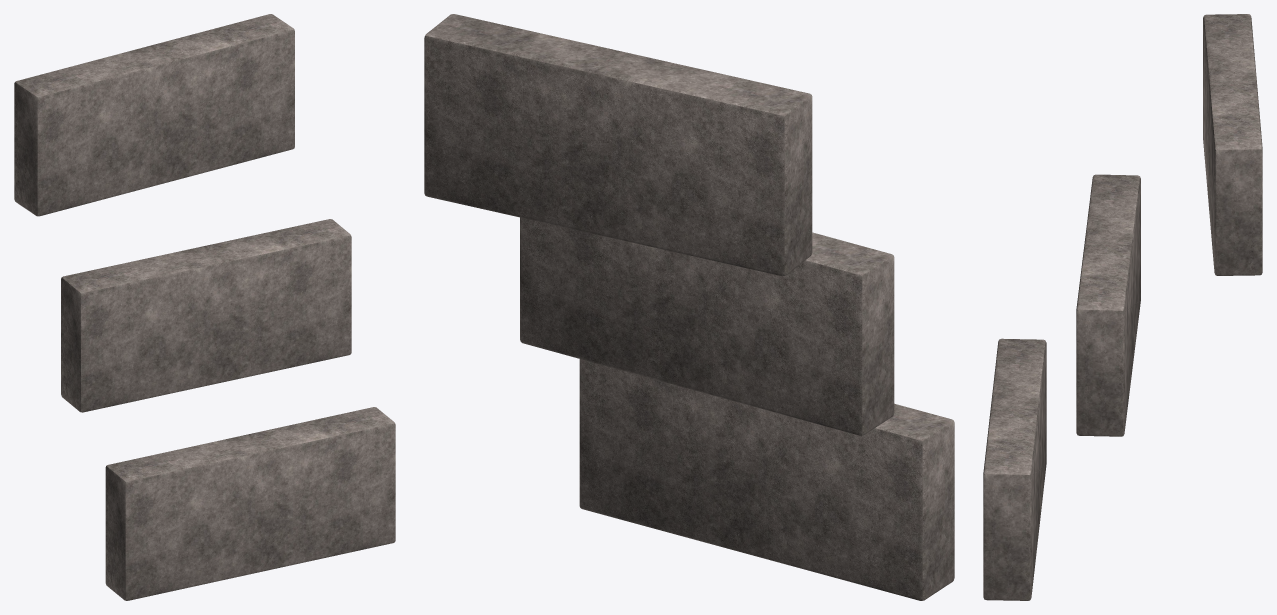
The model's file is PAV-GUI-002_anim.glb.
The picture shows the model from 3 angles, left to right: view 1: azimuth 30°, elevation 25°; view 2: azimuth 150°, elevation 25°; view 3: azimuth 270°, elevation 25°; orthographic projection. The views are drawn at different scales.
Visible parts, largest first — view 1: PAV-GUI-002_anim1, PAV-GUI-002_anim0, PAV-GUI-002_anim2; view 2: PAV-GUI-002_anim2, PAV-GUI-002_anim0, PAV-GUI-002_anim1; view 3: PAV-GUI-002_anim1, PAV-GUI-002_anim0, PAV-GUI-002_anim2.
Boxes of the visible parts, x1,y1,x2,y2 form: PAV-GUI-002_anim1: (61,219,351,412); PAV-GUI-002_anim0: (105,407,395,600); PAV-GUI-002_anim2: (14,14,294,216); PAV-GUI-002_anim2: (424,14,812,276); PAV-GUI-002_anim0: (579,359,954,600); PAV-GUI-002_anim1: (520,217,894,435); PAV-GUI-002_anim1: (1076,174,1140,436); PAV-GUI-002_anim0: (983,338,1046,600); PAV-GUI-002_anim2: (1203,14,1262,275).
Size of the model in its own units: 0.8258 by 1.25 by 0.694.
1 material, 1 textured.
